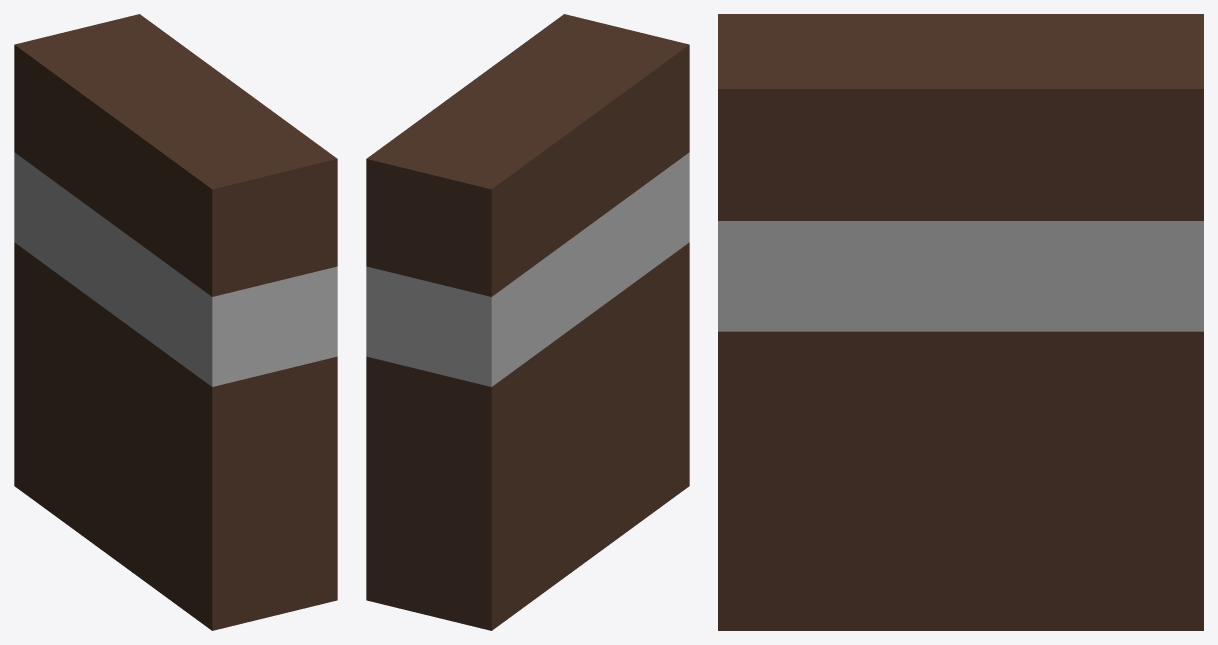
3 views of the same model, side by side, from view 1: azimuth 30°, elevation 25°; view 2: azimuth 150°, elevation 25°; view 3: azimuth 270°, elevation 25° (orthographic). The views are drawn at different scales.
Parts seen in each view (by area): view 1: pasted__pCube1; view 2: pasted__pCube1; view 3: pasted__pCube1.
Part boxes in pixels (box(x1,y1,x2,y2)): pasted__pCube1: box(14, 14, 337, 630); pasted__pCube1: box(366, 14, 689, 630); pasted__pCube1: box(718, 14, 1203, 630).
Size of the model in its own units: 1.78 by 6 by 4.87.
